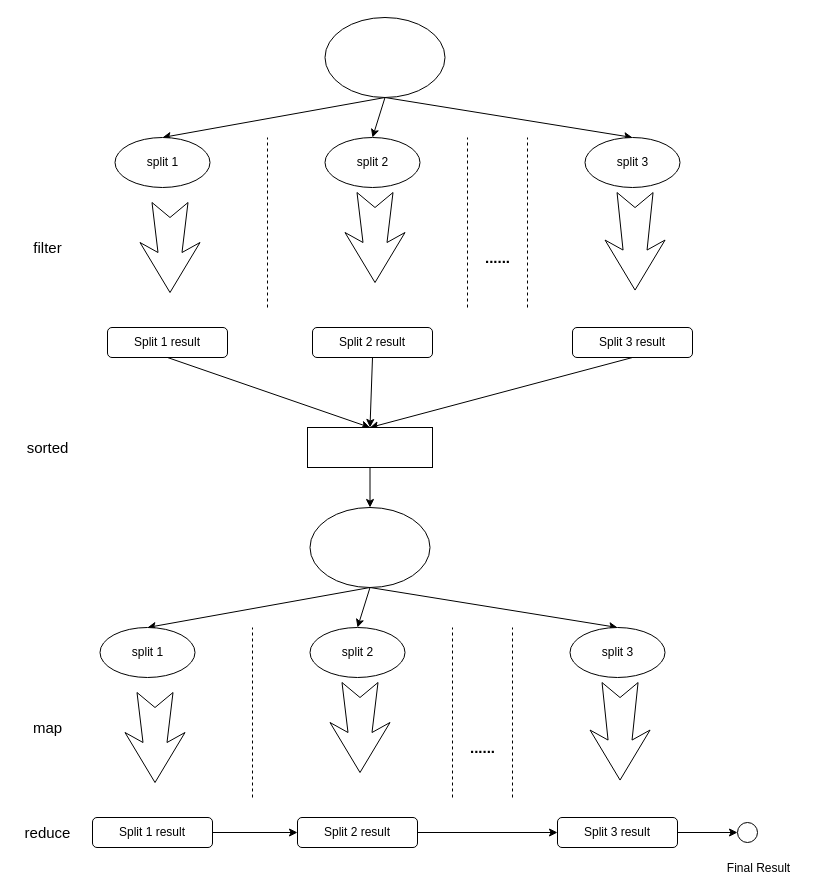
The diagram is 815 pixels wide and 896 high, and some of its shapes have lost their labels. Each missing label, with the centre of its shape:
"Arrays.parallelSort" belongs at (369,447).
"Spliterator" belongs at (384,57).
"Spliterator 2" belongs at (369,547).
